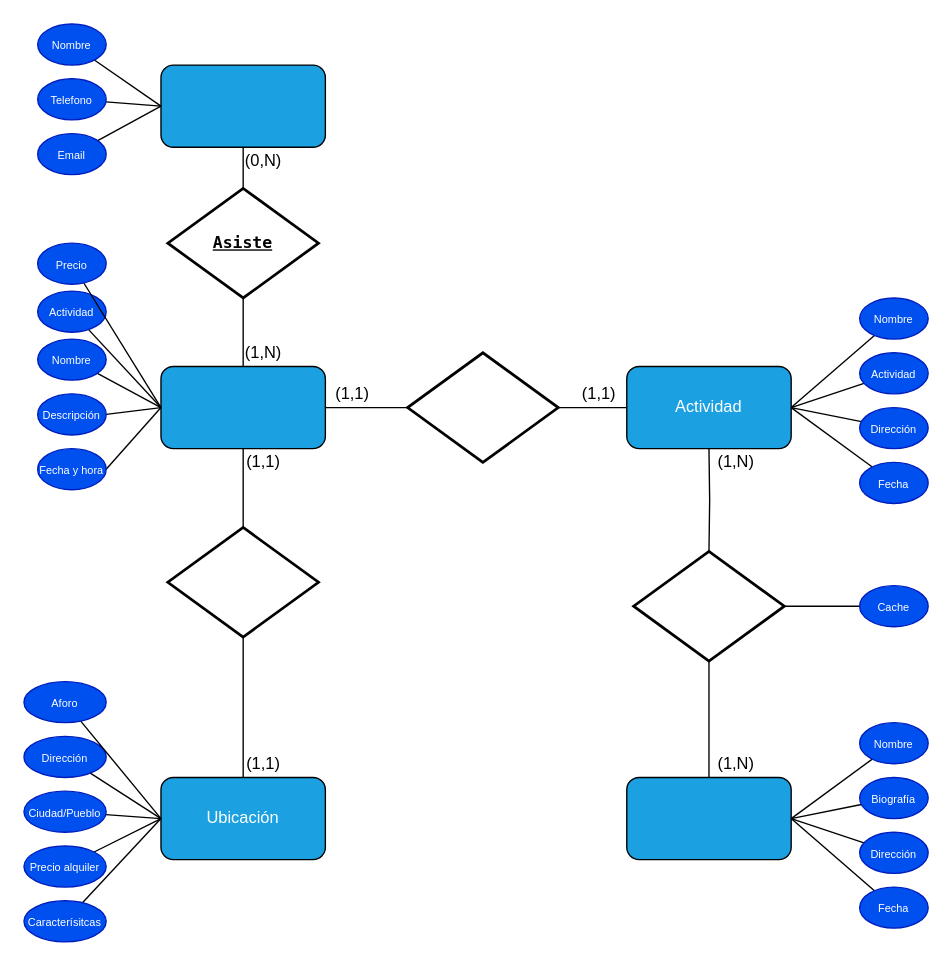
Some shapes in this 952 by 966 pixel diagram are drawn without their labels. The centre of each missing label's shape, as x and y in pixels:
"Artista" goes at pixel 708 818.
"Asistente" goes at pixel 242 105.
"Evento" goes at pixel 242 407.
"Participa" goes at pixel 708 605.
"se desarrolla" goes at pixel 482 407.
"Se ubica" goes at pixel 242 581.
